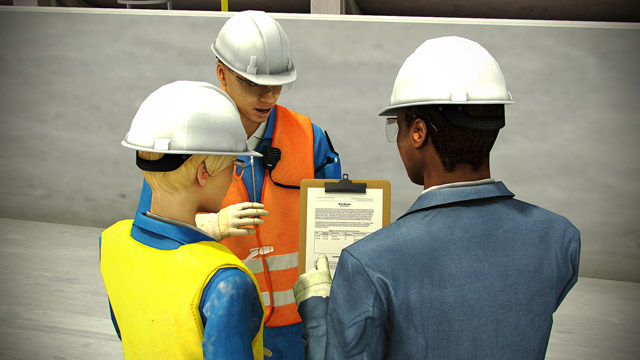Helmet: (119, 79, 264, 160), (377, 34, 520, 111), (209, 6, 303, 86)
